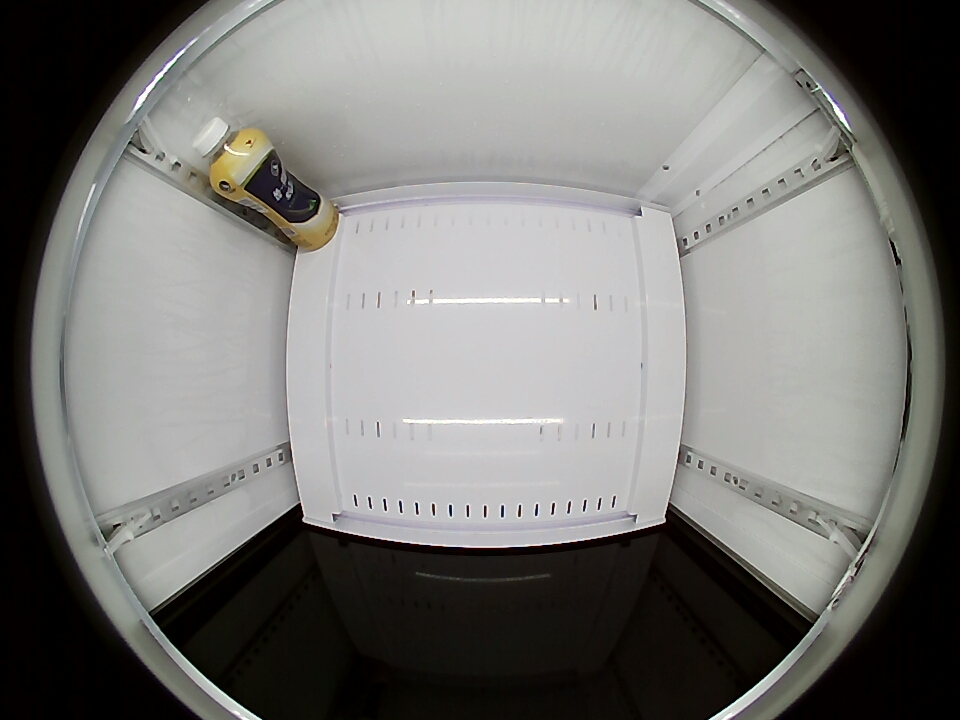asamu: (193, 117, 265, 190)
